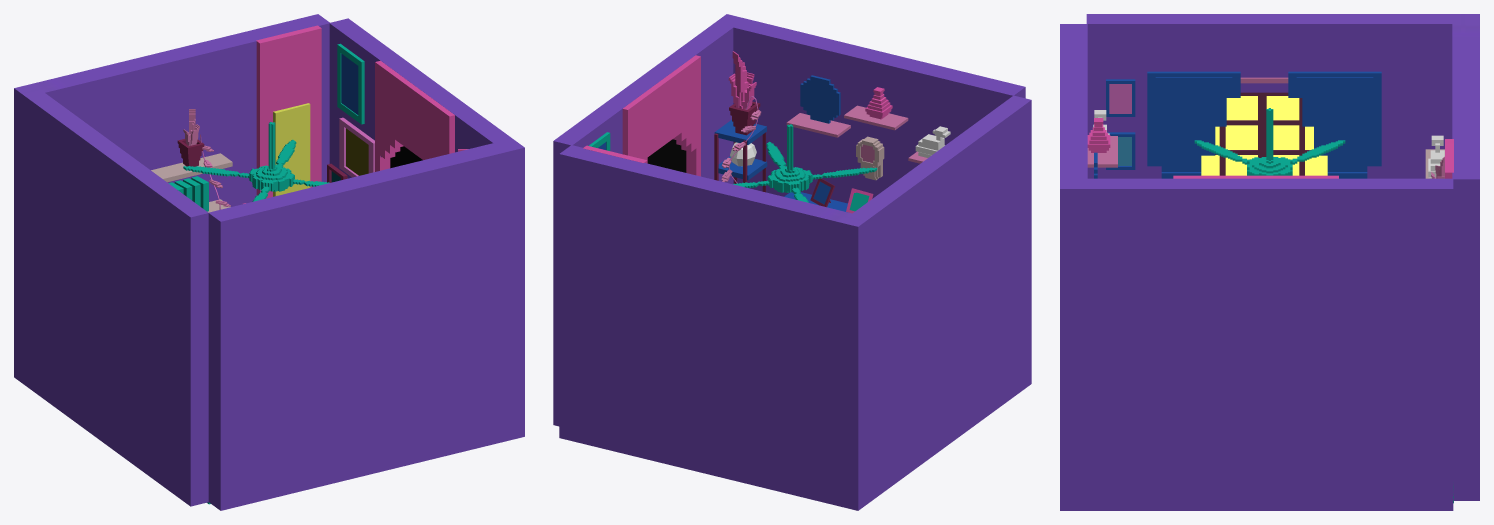
Rendered from Tutorial Level 1.fbx.
3 views of the same model, side by side, from view 1: azimuth 30°, elevation 25°; view 2: azimuth 150°, elevation 25°; view 3: azimuth 270°, elevation 25° (orthographic). The views are drawn at different scales.
Parts seen in each view (by area): view 1: Pared y suelo secundaria, Pared secundaria, Right furniture, Left Furniture, ventilador; view 2: Pared secundaria, Pared y suelo secundaria, Left Furniture, ventilador, Reloj; view 3: Pared y suelo secundaria, Pared secundaria, Right furniture, ventilador, Left Furniture.
Boxes of the visible parts, x1,y1,x2,y2 form: Pared y suelo secundaria: (207,18,524,510); Pared secundaria: (14,14,329,506); Right furniture: (151,25,321,212); Left Furniture: (327,43,468,182); ventilador: (183,122,329,201); Pared secundaria: (559,95,1031,510); Pared y suelo secundaria: (553,14,1025,426); Left Furniture: (588,51,950,213); ventilador: (733,124,877,202); Reloj: (856,136,884,180); Pared y suelo secundaria: (1060,24,1453,510); Pared secundaria: (1086,14,1479,503); Right furniture: (1106,71,1453,178); ventilador: (1194,108,1345,175); Left Furniture: (1087,110,1117,178).
Bounding box in the file's own units: 225 × 195 × 228.
